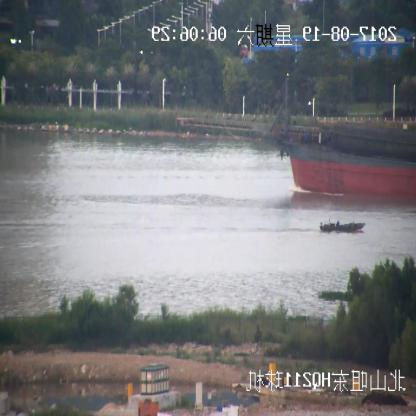Fishing Boat: (318, 218, 366, 233)
